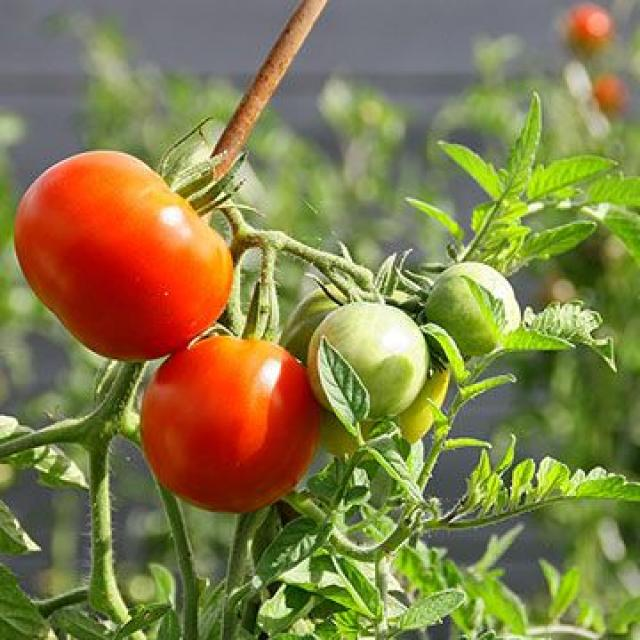level 2: (308, 300, 430, 415), (424, 256, 523, 354)
level 6: (15, 150, 234, 364), (140, 337, 320, 519)
